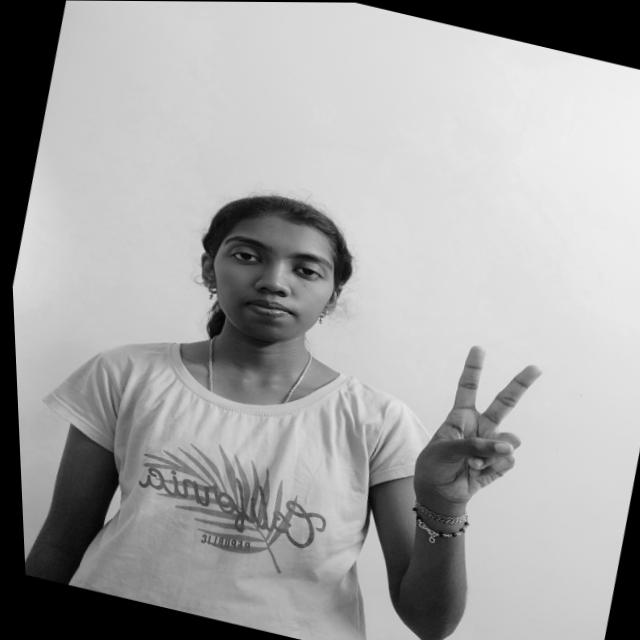Victory: (390, 330, 553, 529)
